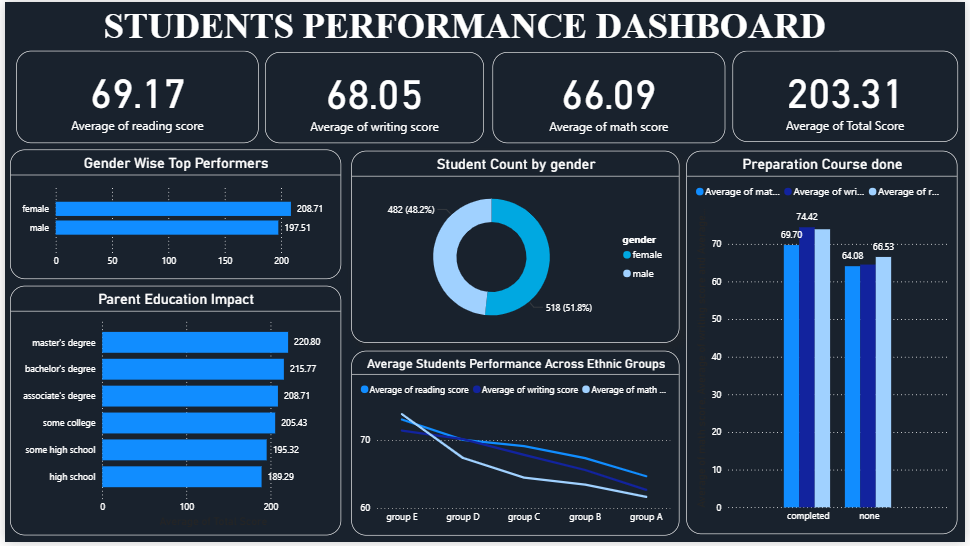

The dashboard page shown, as its layout file describes it:
{"tool":"powerbi","page":{"name":"Page 1","canvas":[1280,720],"ordinal":0},"visuals":[{"type":"donutChart","title":"Student Count by gender ","fields":{"Category":["StudentsPerformance.gender"],"Y":["CountNonNull(StudentsPerformance.gender)"]},"box":[460.9,199.1,437.9,255.8],"z":0},{"type":"lineChart","title":"Average Students Performance Across Ethnic Groups","fields":{"Y":["Avg(StudentsPerformance.reading score)","Avg(StudentsPerformance.writing score)","Avg(StudentsPerformance.math score)"],"Category":["StudentsPerformance.race/ethnicity"]},"box":[460.9,464.5,437.9,246.1],"z":1000},{"type":"clusteredColumnChart","title":"Preparation Course done","fields":{"Category":["StudentsPerformance.test preparation course"],"Y":["Avg(StudentsPerformance.math score)","Avg(StudentsPerformance.writing score)","Avg(StudentsPerformance.reading score)"]},"box":[908.4,199.1,361.9,511.5],"z":2000},{"type":"card","fields":{"Values":["Avg(StudentsPerformance.reading score)"]},"box":[15.7,65.1,323.3,123.1],"z":3000},{"type":"card","fields":{"Values":["Avg(StudentsPerformance.writing score)"]},"box":[347.5,66.4,292,121.9],"z":4000},{"type":"card","fields":{"Values":["Avg(StudentsPerformance.math score)"]},"box":[650.3,66.4,310.1,121.9],"z":5000},{"type":"card","fields":{"Values":["Avg(StudentsPerformance.Total Score)"]},"box":[970,65.1,300.4,121.9],"z":6000},{"type":"textbox","box":[126.7,0,985.7,65.1],"z":7000},{"type":"barChart","title":"Parent Education Impact","fields":{"Category":["StudentsPerformance.parental level of education"],"Y":["Avg(StudentsPerformance.Total Score)"]},"box":[7.2,377.6,441.6,333],"z":8000},{"type":"barChart","title":"Gender Wise Top Performers","fields":{"Y":["Avg(StudentsPerformance.Total Score)"],"Category":["StudentsPerformance.gender"]},"box":[7.2,196.6,441.6,172.5],"z":9000}]}

Visuals, with their boxes in screenshot pixels (x1, y1, x2, y2), scaled from the page's 1280x720 canvas onto the 970x546 screenshot:
"Student Count by gender " donutChart: (349, 151, 681, 345)
"Average Students Performance Across Ethnic Groups" lineChart: (349, 352, 681, 539)
"Preparation Course done" clusteredColumnChart: (688, 151, 963, 539)
card - Avg(StudentsPerformance.reading score): (12, 49, 257, 143)
card - Avg(StudentsPerformance.writing score): (263, 50, 485, 143)
card - Avg(StudentsPerformance.math score): (493, 50, 728, 143)
card - Avg(StudentsPerformance.Total Score): (735, 49, 963, 142)
textbox: (96, 0, 843, 49)
"Parent Education Impact" barChart: (5, 286, 340, 539)
"Gender Wise Top Performers" barChart: (5, 149, 340, 280)
